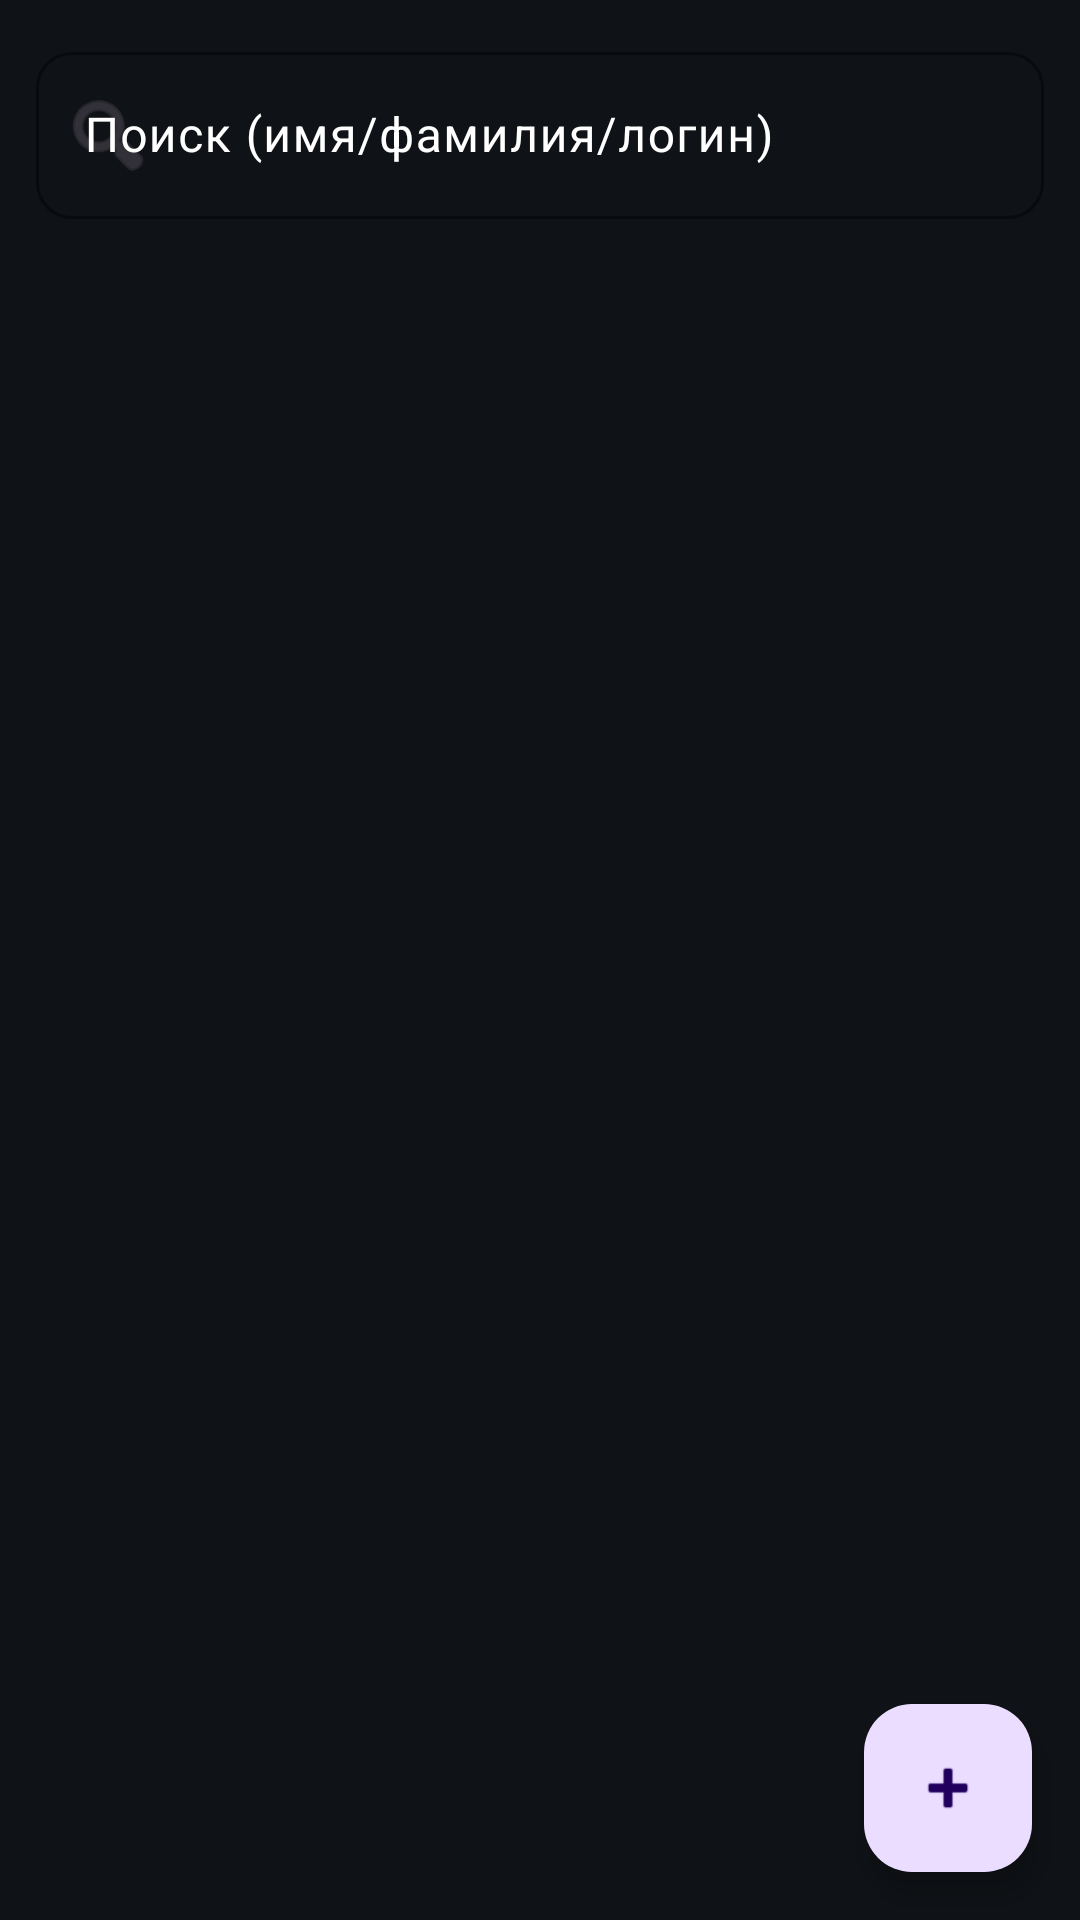

Named icons in this screenshot (1080*1920) and their centers, point (x, y):
Добавить: point (948, 1788)
